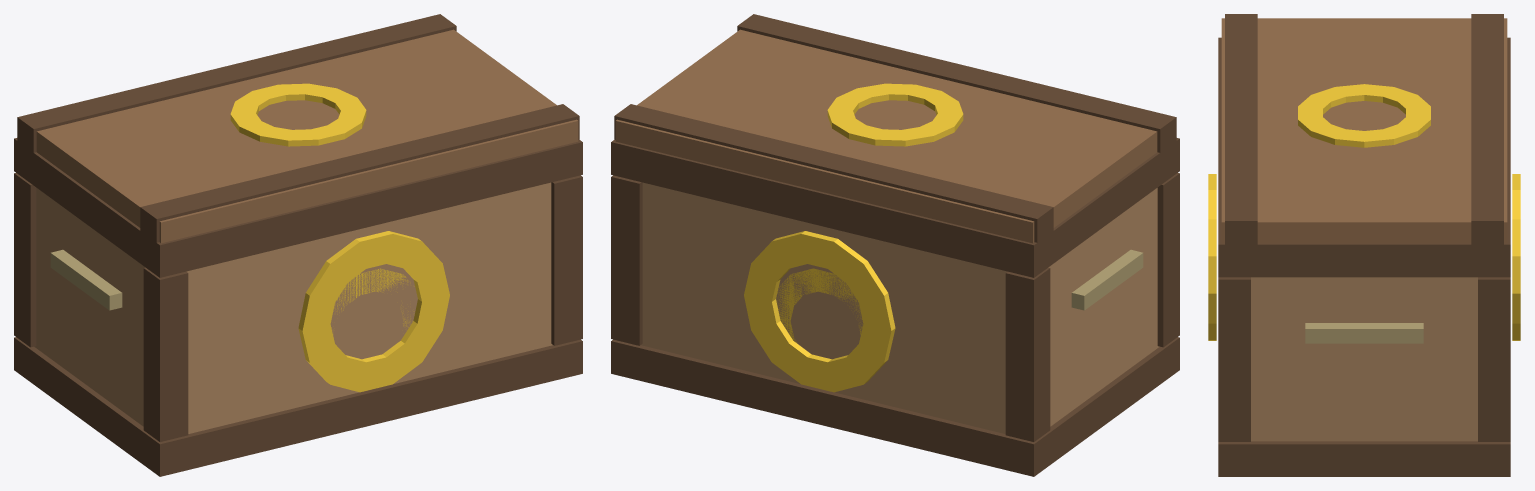
File: crates.glb
3 renders of one model, left to right at view 1: azimuth 30°, elevation 25°; view 2: azimuth 150°, elevation 25°; view 3: azimuth 270°, elevation 25°, orthographic.
Parts seen in each view (by area): view 1: large_body, large_lid, small_body; view 2: large_body, large_lid, small_body; view 3: large_body, large_lid.
Boxes of the visible parts, bbox=[...] form: large_body: bbox=[14, 138, 582, 476]; large_lid: bbox=[17, 14, 579, 245]; small_body: bbox=[331, 268, 414, 334]; large_body: bbox=[611, 138, 1179, 476]; large_lid: bbox=[614, 14, 1176, 245]; small_body: bbox=[776, 268, 862, 342]; large_body: bbox=[1208, 37, 1520, 476]; large_lid: bbox=[1221, 14, 1507, 247].
Size of the model in its own units: 1.54 by 0.875 by 0.95.
1 material, 1 textured.
